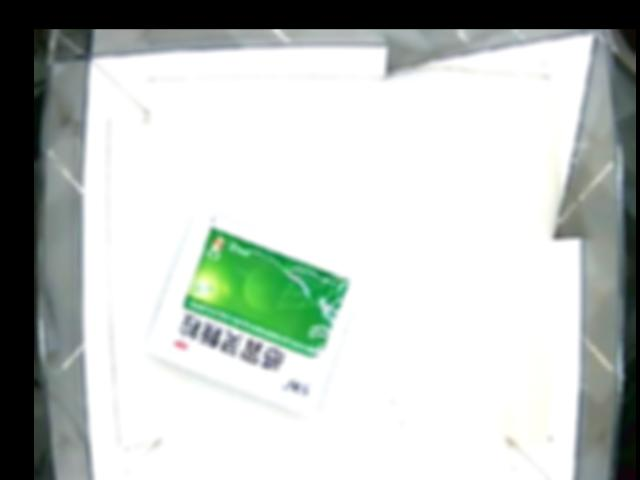Medicine: (144, 206, 360, 417)
